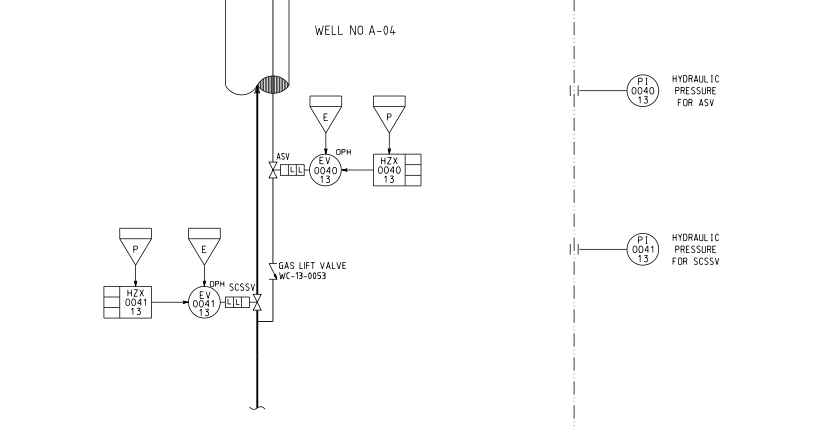Instrument: (621, 73, 664, 109), (626, 229, 661, 269), (307, 152, 342, 189), (188, 283, 222, 321)
Instrument-square: (100, 279, 156, 323), (369, 149, 426, 192)
